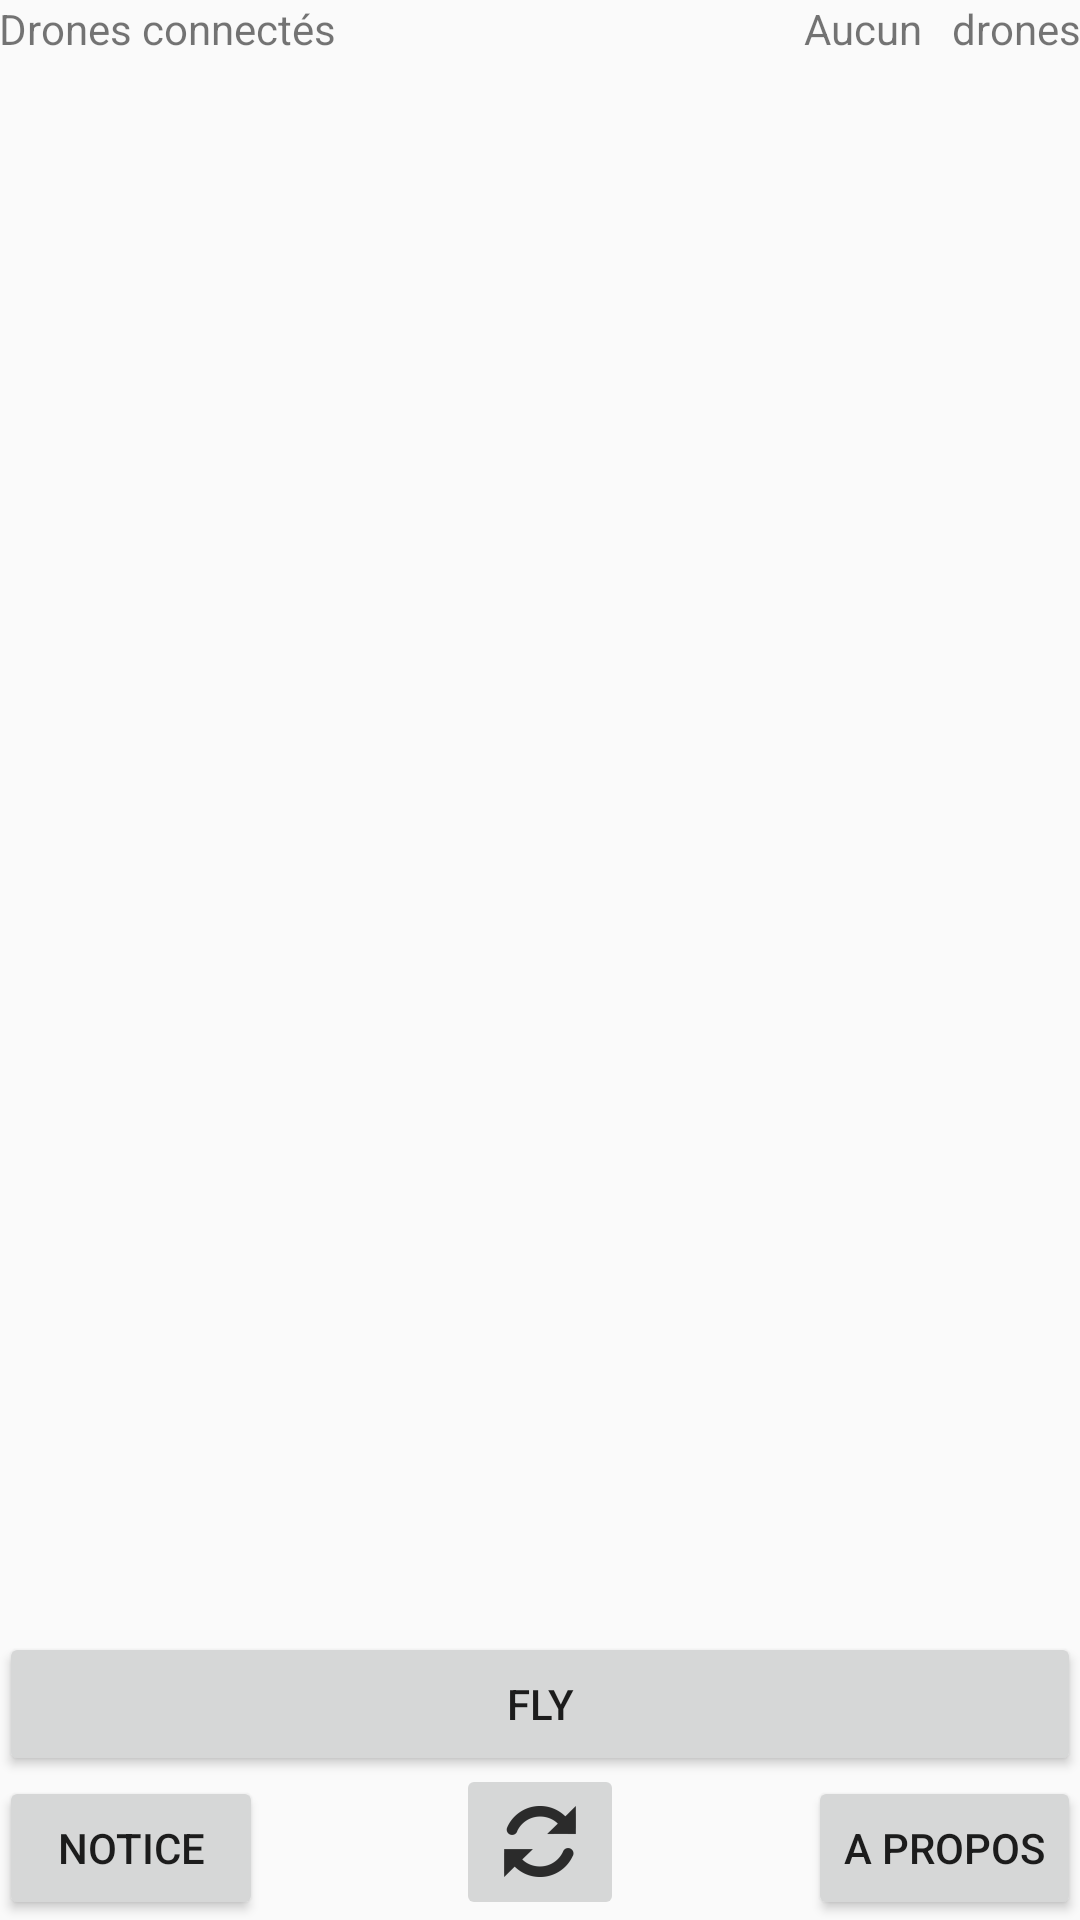

Screen size 1080 x 1920. Icon name, then its center in pixels as (x=x, y=y):
refresh: (x=540, y=1842)
